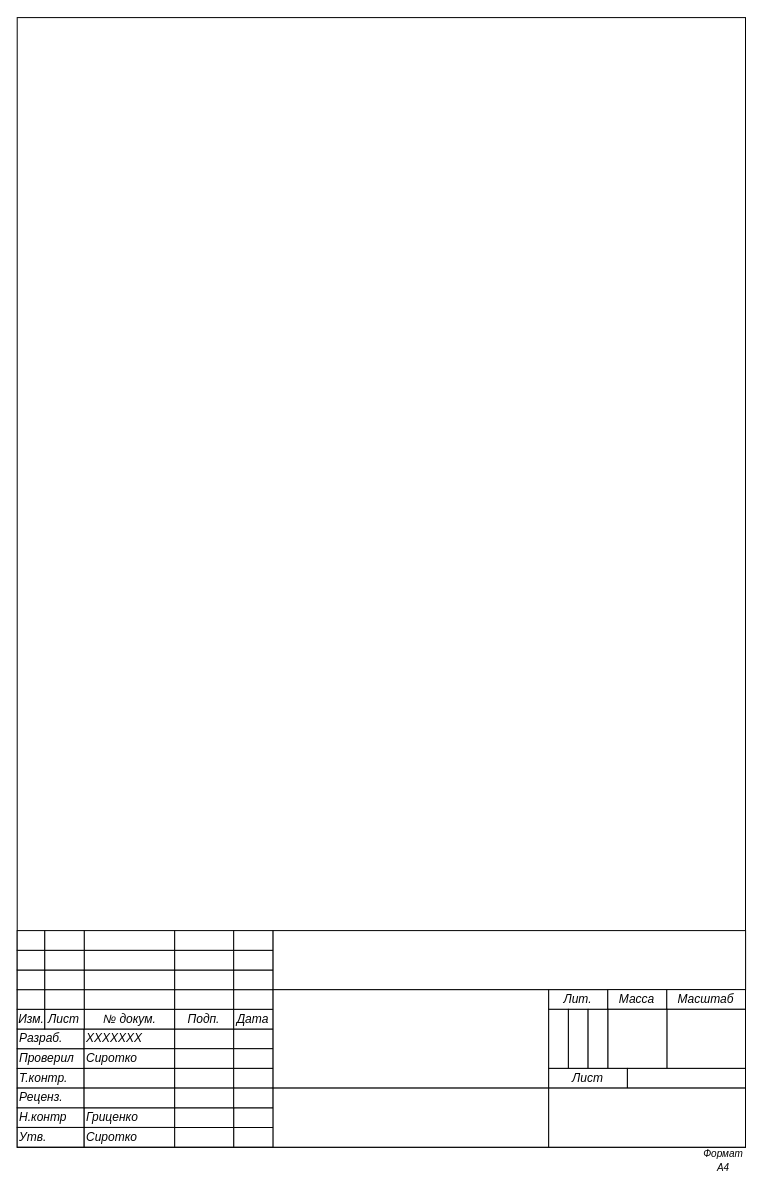
Image size: 775x1190. Some labels were removed from this diagram. The shapes that lost their labels are listed below. From the top down, each one's centre as x and y in pixels, then its label:
At (x=509, y=960): "ГУИР.400401.XXX.00X".
At (x=410, y=1038): "Блок схема алгоритма".
At (x=686, y=1077): "Листов 1".
At (x=647, y=1117): "Кафедра информатики, гр. 253501".
